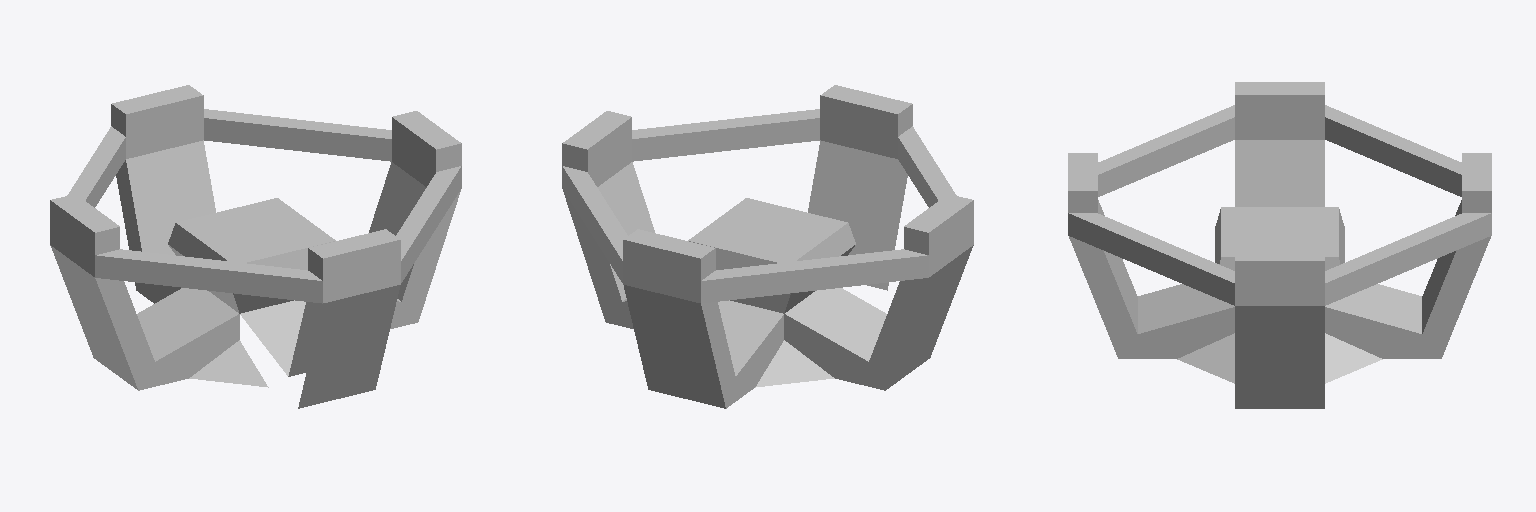
The model's file is fireBasket.obj.
3 renders of one model, left to right at view 1: azimuth 30°, elevation 25°; view 2: azimuth 150°, elevation 25°; view 3: azimuth 270°, elevation 25°, orthographic.
Visible parts, largest first — view 1: fireBasket; view 2: fireBasket; view 3: fireBasket.
Boxes of the visible parts, x1,y1,x2,y2 form: fireBasket: [50, 85, 461, 408]; fireBasket: [562, 85, 973, 408]; fireBasket: [1068, 82, 1491, 408].
Size of the model in its own units: 0.2731 by 0.12 by 0.2731.